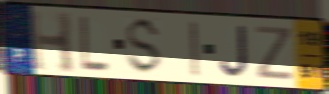H: (29, 7, 77, 75)
I: (187, 19, 203, 79)
J: (218, 23, 250, 79)
L: (78, 14, 110, 74)
S: (124, 15, 163, 76)
Z: (254, 23, 295, 82)
